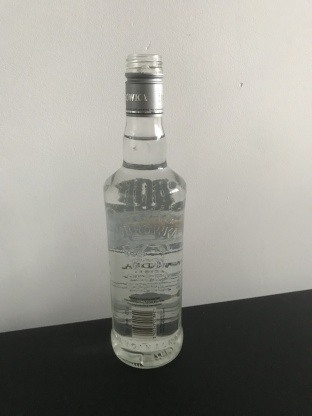nakretka: (123, 51, 165, 119)
